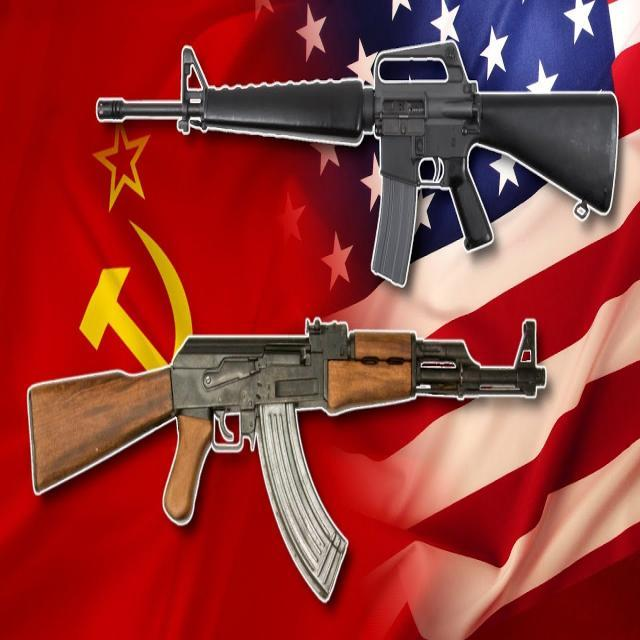weapon: (28, 320, 546, 602), (94, 40, 618, 288)
